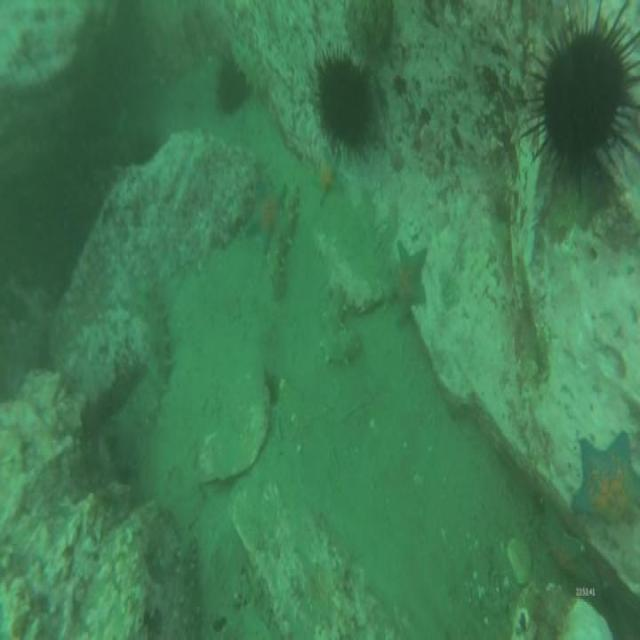echinus: (535, 27, 639, 164), (315, 55, 376, 154), (220, 62, 248, 109)
holothurian: (140, 293, 174, 432), (269, 180, 299, 299), (321, 289, 362, 365), (177, 540, 200, 640)
starfish: (572, 433, 638, 529), (390, 245, 427, 322), (246, 185, 284, 250), (312, 156, 343, 202)
